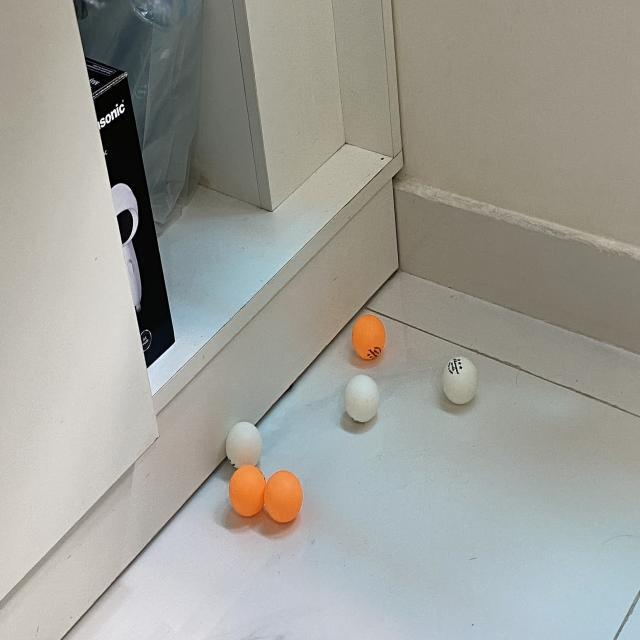ping-pong-ball: (264, 472, 304, 524), (344, 372, 382, 425), (230, 466, 267, 516), (226, 423, 262, 471), (443, 358, 478, 404), (353, 313, 386, 359)
